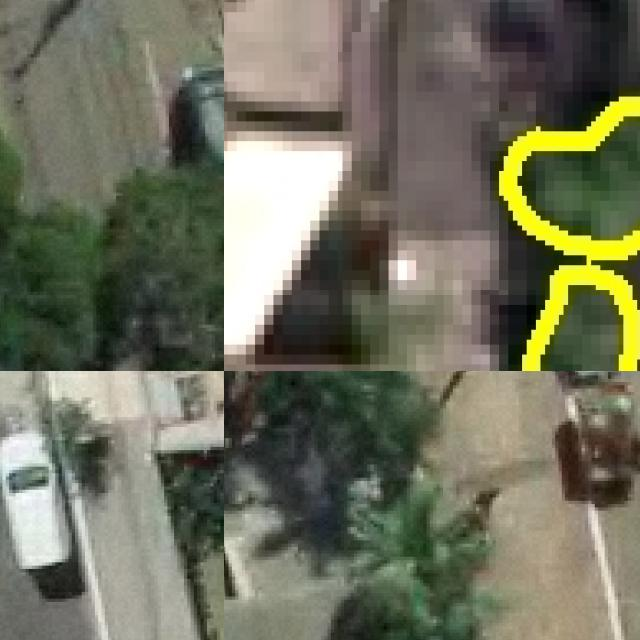trees: (225, 372, 490, 640), (1, 131, 225, 372), (505, 103, 640, 256), (528, 266, 634, 372)
